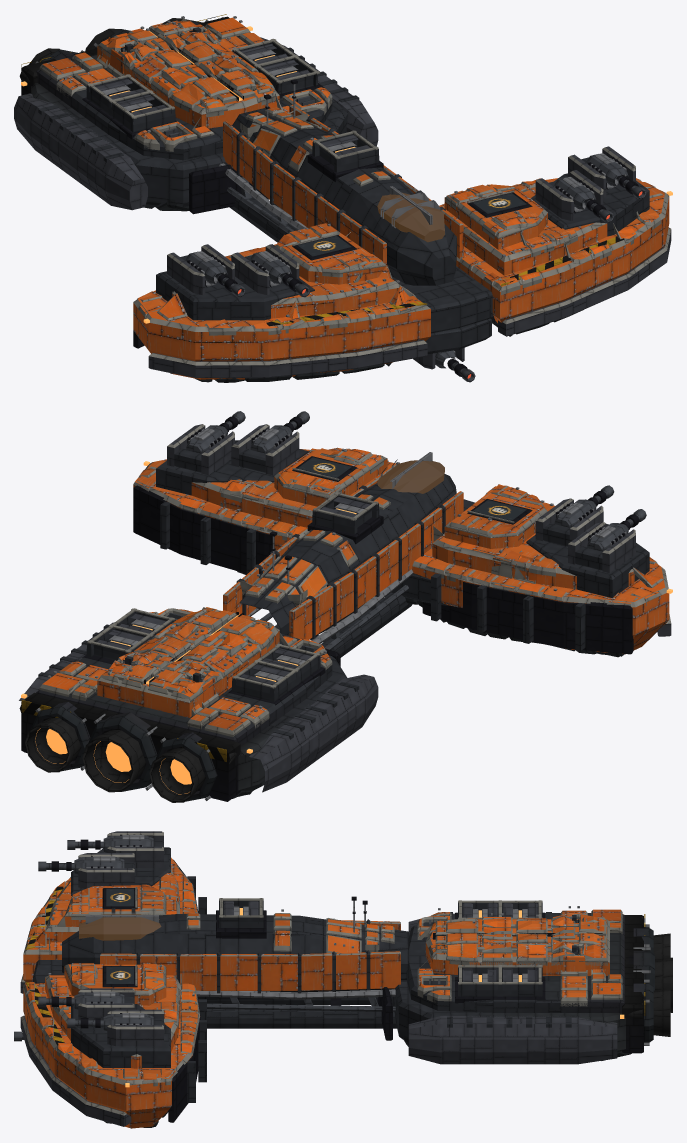
File: saturn-schiff3.glb
3 renders of one model, top to bottom at view 1: azimuth 30°, elevation 25°; view 2: azimuth 150°, elevation 25°; view 3: azimuth 270°, elevation 25°, orthographic. The views are drawn at different scales.
Visible parts, largest first — view 1: Hull_LOD0, Laser_03, Laser_02, Laser_01, Laser_04, Faction_Insignia_Left, Insignia_ClanSlot_Right, Laser_05; view 2: Hull_LOD0, EngineLight, Laser_01, Laser_02, Laser_03, Laser_04, Faction_Insignia_Left, Insignia_ClanSlot_Right; view 3: Hull_LOD0, Laser_01, Laser_03, Laser_04, Laser_02, Insignia_ClanSlot_Right, Faction_Insignia_Left.
Boxes of the visible parts, bbox=[...] form: Hull_LOD0: bbox=[14, 14, 672, 382]; Laser_03: bbox=[250, 251, 309, 297]; Laser_02: bbox=[587, 153, 646, 199]; Laser_01: bbox=[554, 177, 614, 222]; Laser_04: bbox=[186, 251, 245, 297]; Faction_Insignia_Left: bbox=[473, 193, 526, 213]; Insignia_ClanSlot_Right: bbox=[298, 236, 351, 256]; Laser_05: bbox=[435, 350, 475, 382]; Hull_LOD0: bbox=[19, 424, 672, 802]; EngineLight: bbox=[35, 728, 191, 794]; Laser_01: bbox=[250, 411, 309, 453]; Laser_02: bbox=[186, 411, 245, 453]; Laser_03: bbox=[554, 485, 614, 527]; Laser_04: bbox=[587, 509, 646, 551]; Faction_Insignia_Left: bbox=[298, 457, 351, 477]; Insignia_ClanSlot_Right: bbox=[473, 500, 526, 520]; Hull_LOD0: bbox=[20, 831, 672, 1128]; Laser_01: bbox=[38, 991, 124, 1009]; Laser_03: bbox=[38, 856, 124, 874]; Laser_04: bbox=[67, 834, 153, 852]; Laser_02: bbox=[67, 1013, 153, 1030]; Insignia_ClanSlot_Right: bbox=[106, 888, 133, 906]; Faction_Insignia_Left: bbox=[106, 966, 133, 983].
Size of the model in its own units: 45.75 by 13.85 by 54.36.
Materials: 6 (4 with a texture image).
